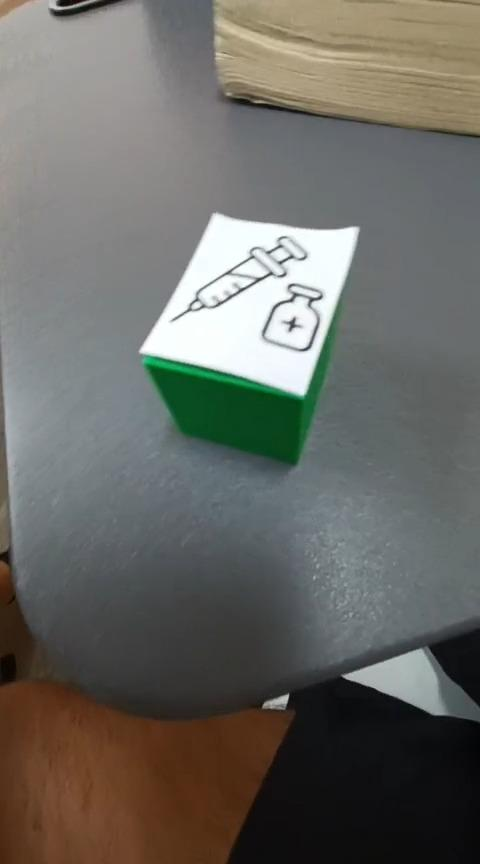antiseptic cream: (137, 210, 361, 466)
